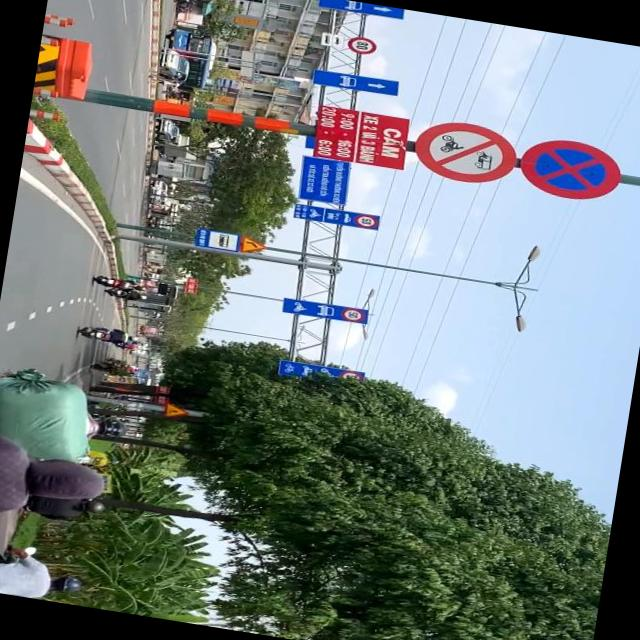P-104: (412, 117, 520, 189)
P-130: (514, 134, 624, 207)
